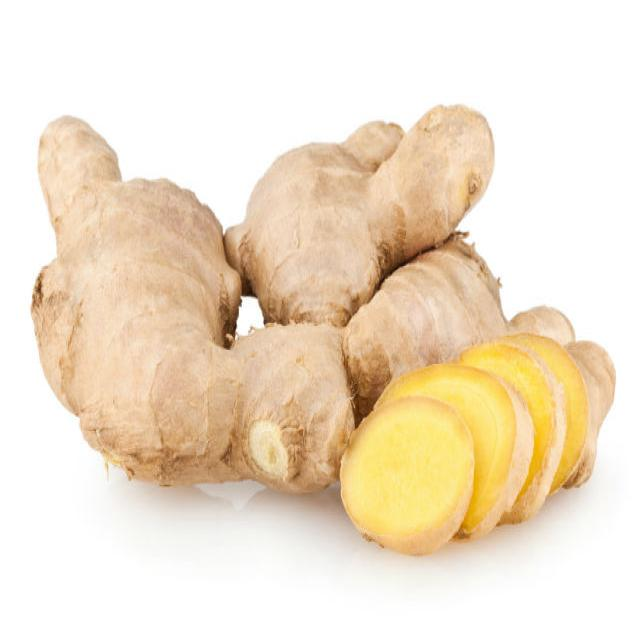ginger: (24, 108, 233, 494), (234, 93, 508, 348)
